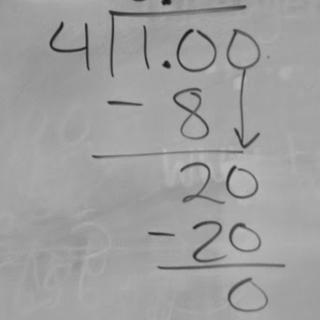.: (158, 57, 174, 71)
0: (177, 28, 216, 75), (225, 275, 269, 313), (226, 28, 262, 70), (227, 220, 264, 254), (224, 164, 259, 199)
1: (142, 19, 153, 67)
2: (179, 159, 225, 207), (192, 220, 227, 266)
4: (48, 17, 92, 70)
8: (170, 86, 212, 138)
